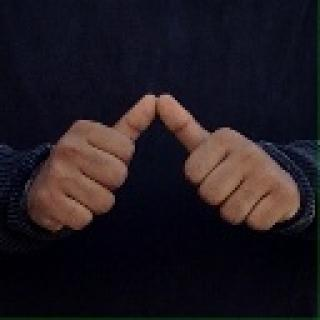A: (28, 88, 297, 244)
